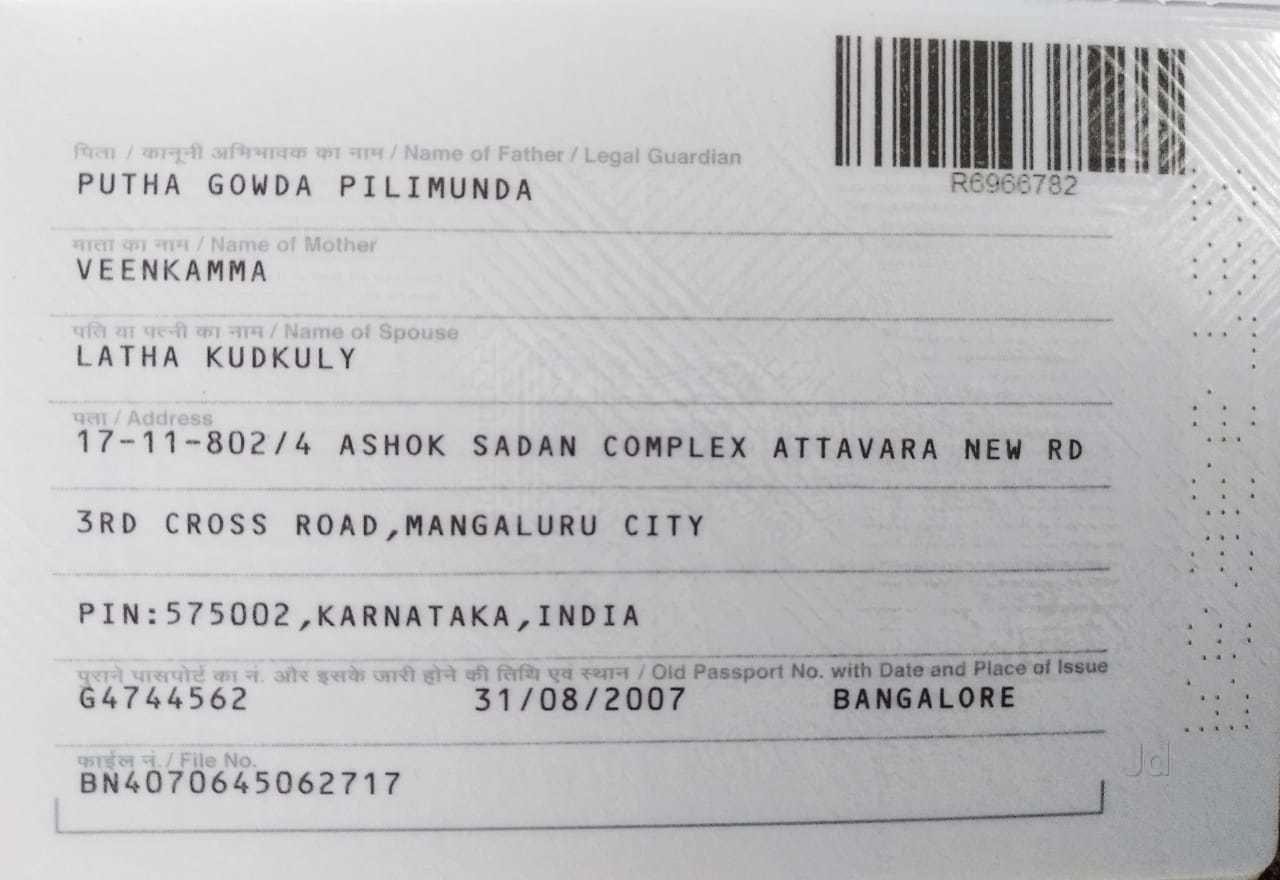File_no: (52, 763, 443, 808)
address: (58, 423, 1113, 640)
father_name: (62, 162, 545, 209)
mother_name: (65, 243, 296, 298)
old_passport_details: (62, 672, 1033, 720)
passport_no: (938, 167, 1100, 205)
spouse_name: (55, 327, 372, 385)
